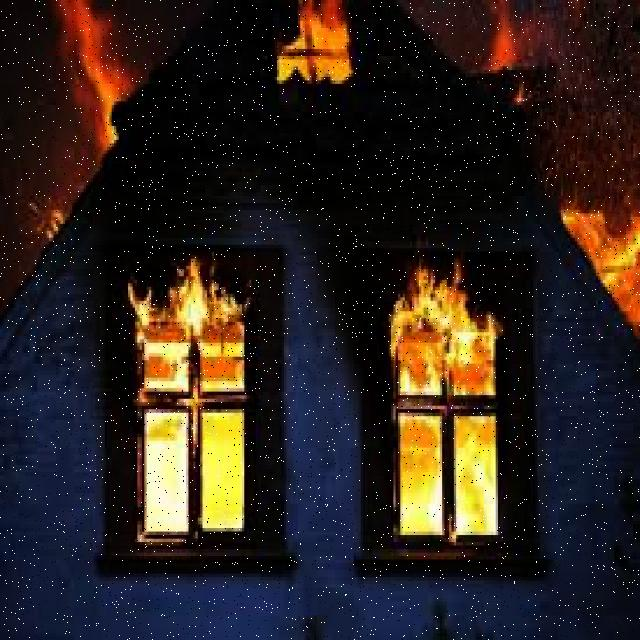fire: (392, 259, 532, 541), (128, 270, 262, 527), (558, 192, 640, 320), (276, 0, 371, 87)
